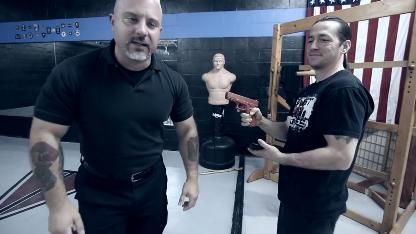pistol: (224, 90, 258, 126)
